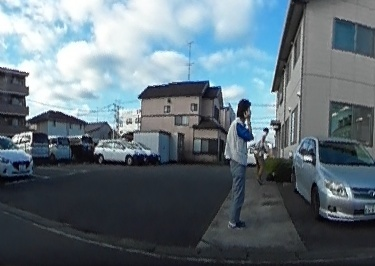person: (226, 98, 253, 224), (253, 126, 269, 185)
